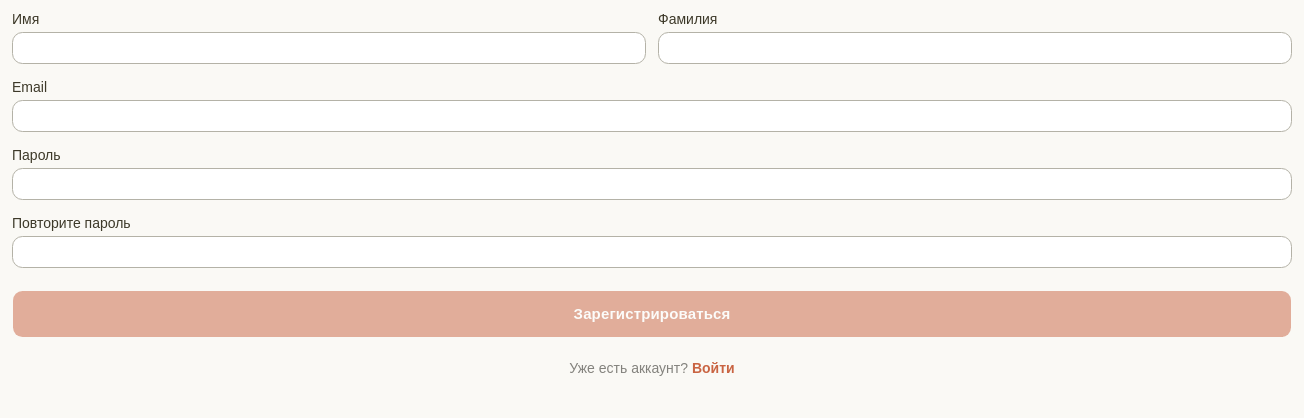
SignupForm › если пароли не совпадают — кнопка disabled и виден текст «Пароли не совпадают»
Type "Иван" into the field labelled "Имя" at {"x": 329, "y": 48}, box [12,32,646,64]
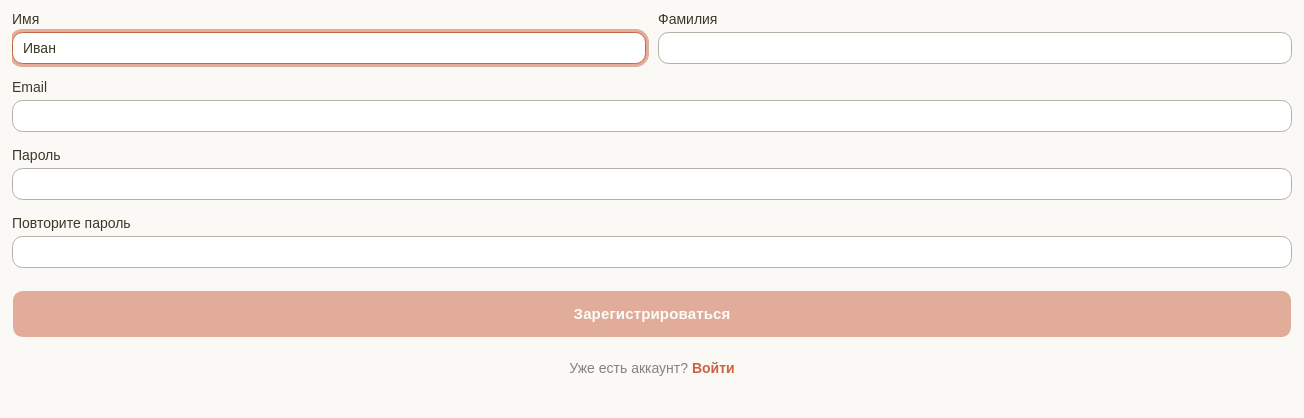
Type "Иванов" into the field labelled "Фамилия" at {"x": 975, "y": 48}, box [658,32,1292,64]
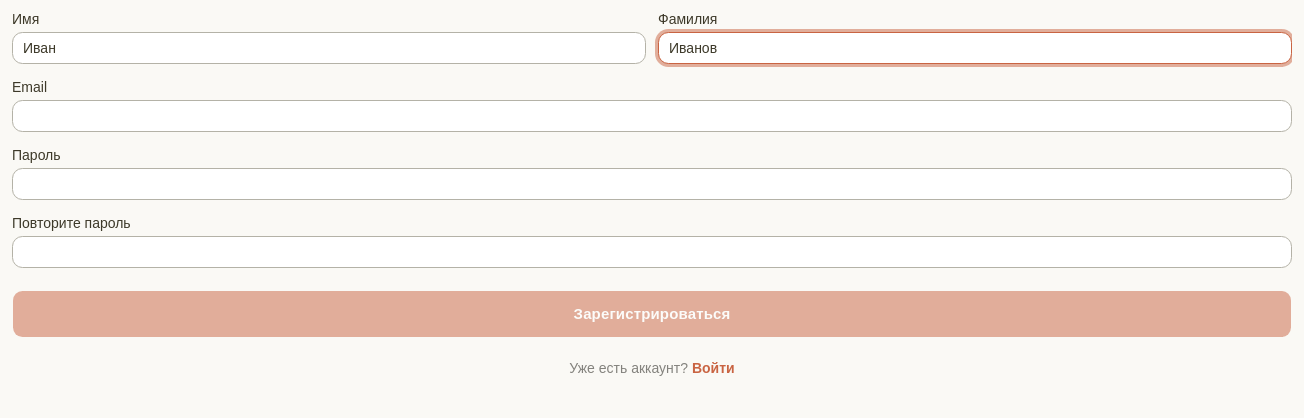
Type "new@formcraft.dev" into the field labelled "Email" at {"x": 652, "y": 116}, box [12,100,1292,132]
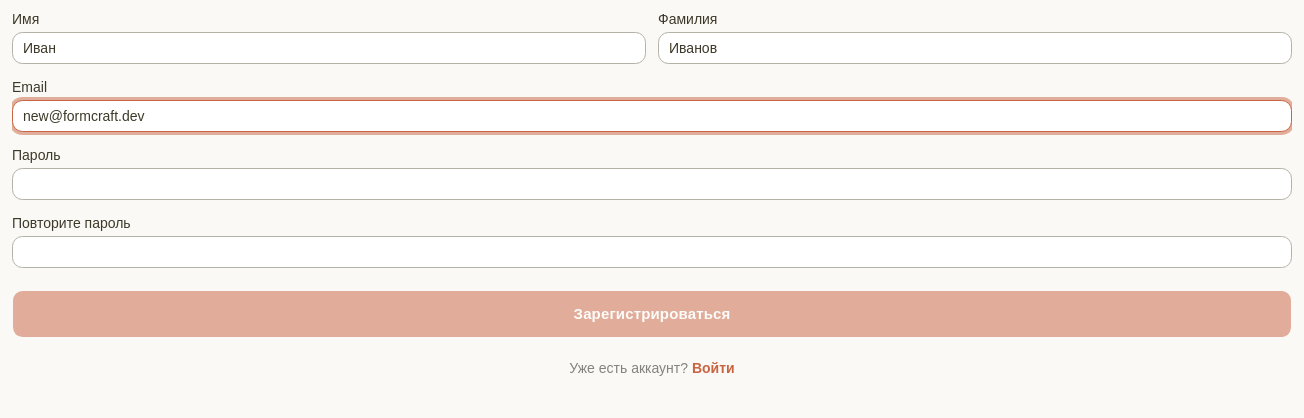
Type "password123" into the password field labelled "Пароль" at {"x": 652, "y": 184}, box [12,168,1292,200]
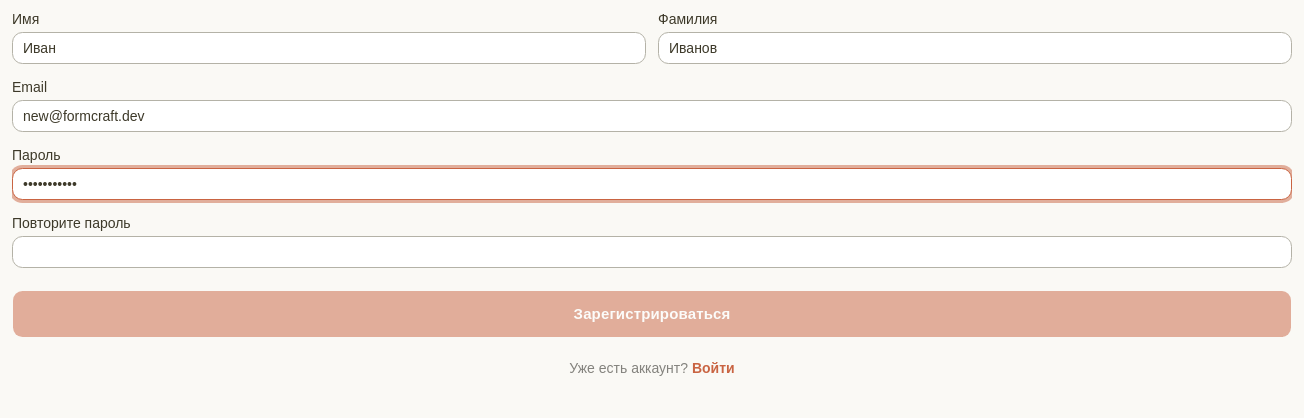
Type "mismatch1234" into the password field labelled "Повторите пароль" at {"x": 652, "y": 252}, box [12,236,1292,268]
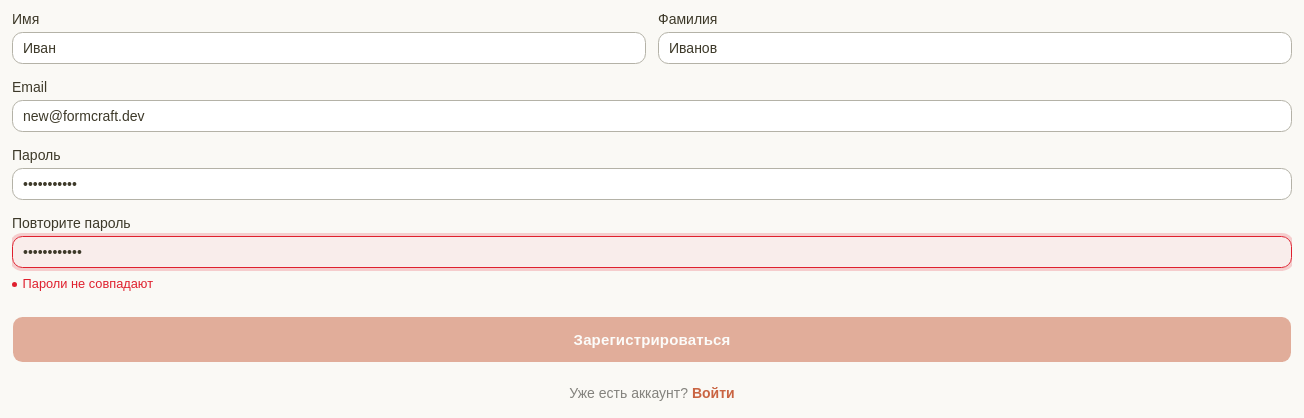
Expected: the button "Зарегистрироваться" is disabled, [12,316,1292,363]
Expected: the text "Пароли не совпадают" is shown, [23,276,153,291]
